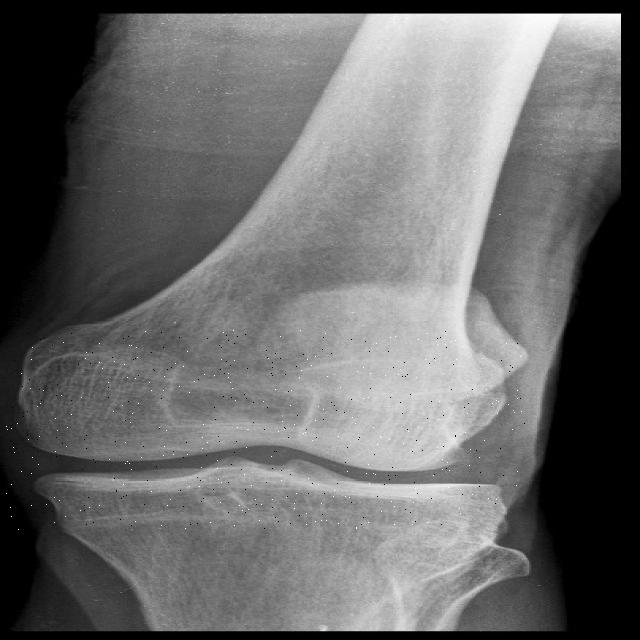osteo: (5, 330, 526, 530)
